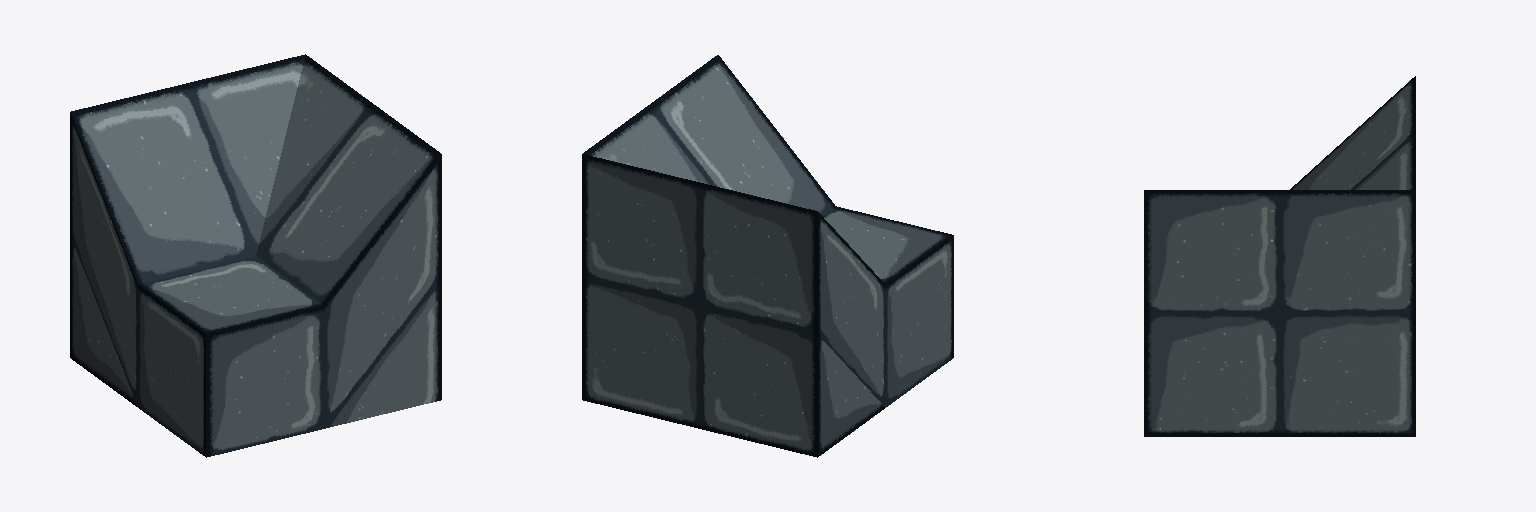
3 renders of one model, left to right at view 1: azimuth 30°, elevation 25°; view 2: azimuth 150°, elevation 25°; view 3: azimuth 270°, elevation 25°, orthographic.
Parts seen in each view (by area): view 1: 8_stone; view 2: 8_stone; view 3: 8_stone.
Part boxes in pixels (bbox=[...]): 8_stone: bbox=[70, 54, 441, 457]; 8_stone: bbox=[582, 55, 953, 457]; 8_stone: bbox=[1144, 76, 1415, 436].
Size of the model in its own units: 1 by 1 by 1.
Materials: 1 (1 with a texture image).